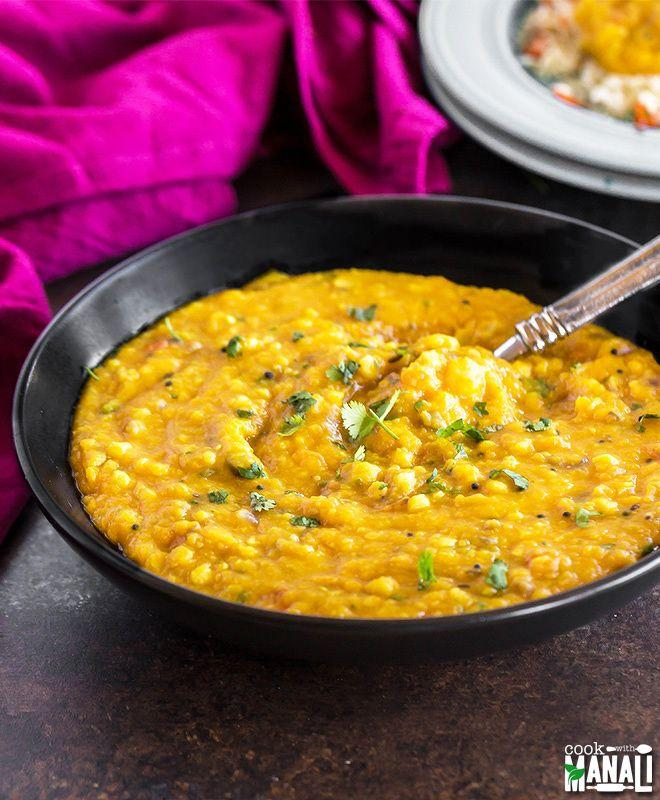daal: (74, 287, 660, 615)
